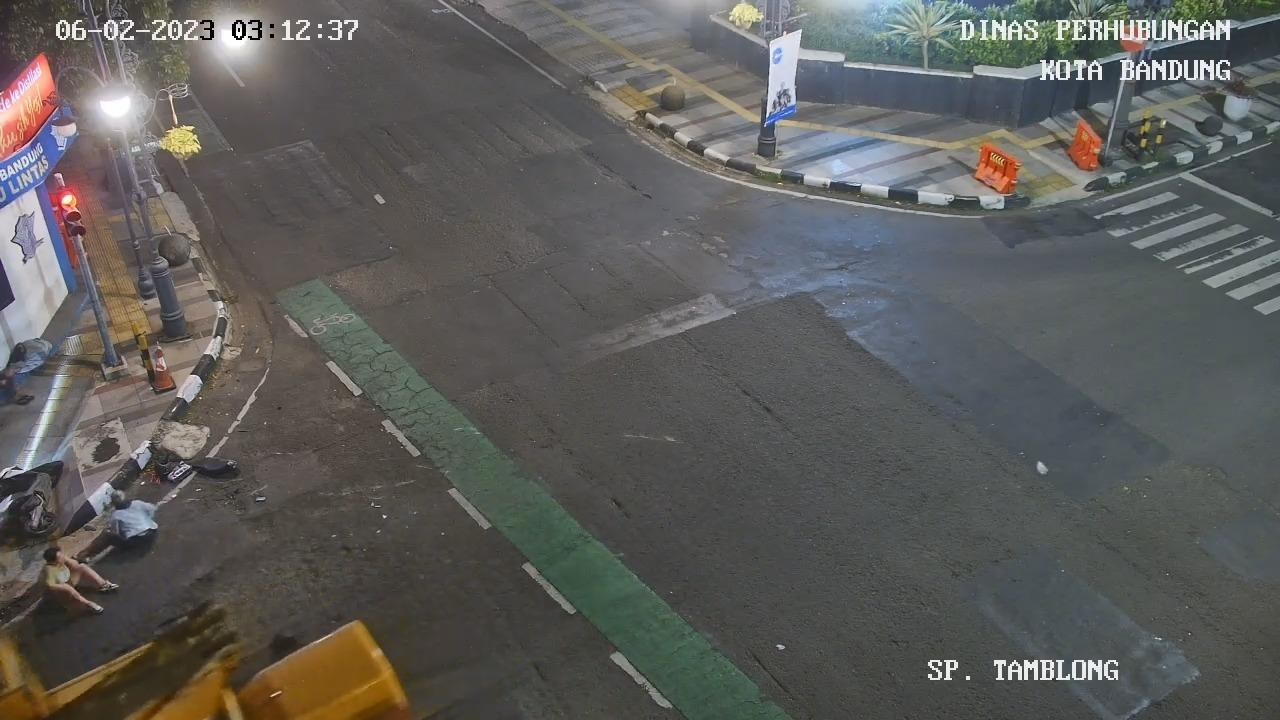accident: (33, 545, 120, 613), (100, 487, 160, 555)
